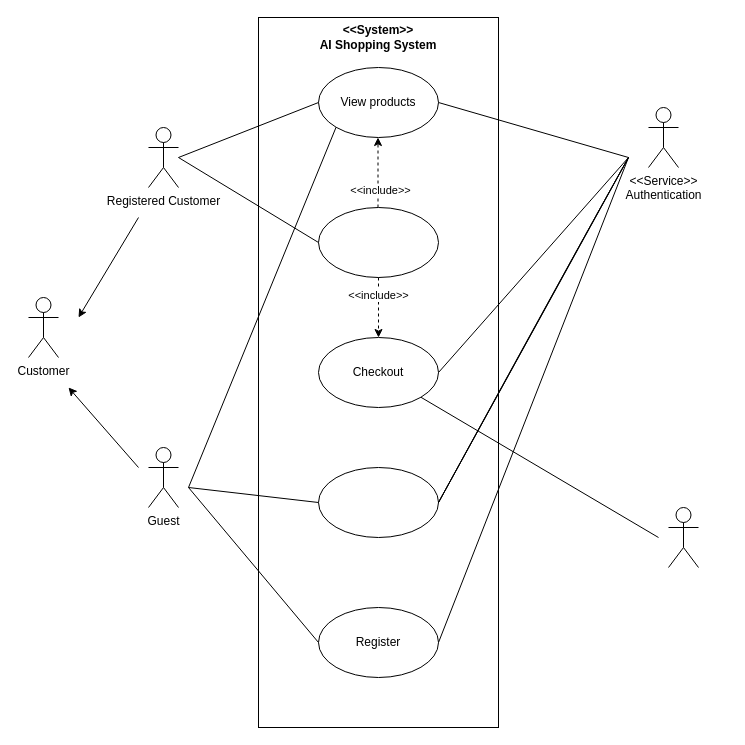
Image size: 745x745. Some labels were removed from this diagram. The centre of each missing label's shape, as x and y in pixels:
Login: the point at 378,502
Make purchase: the point at 378,242
Payment service: the point at 683,537
